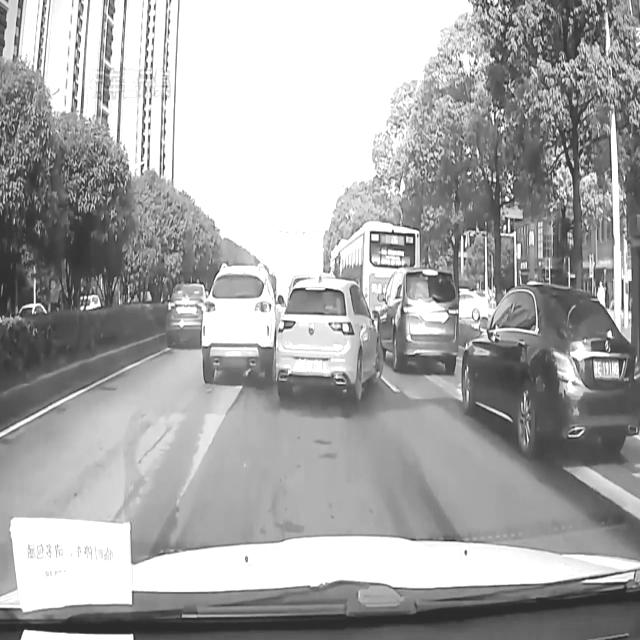accident: (201, 264, 385, 408)
